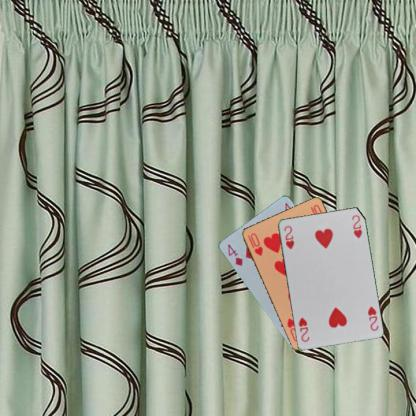10h: (245, 231, 264, 257)
2h: (365, 303, 379, 332), (282, 223, 296, 250)
4d: (223, 241, 244, 267)
